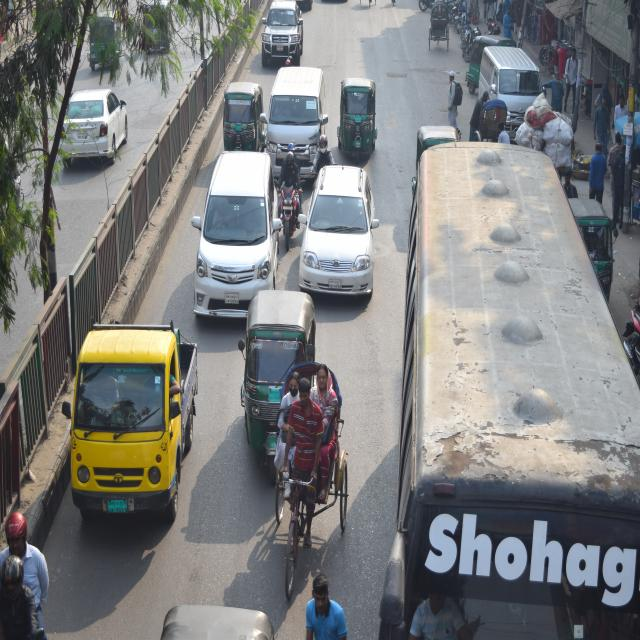bus: (408, 149, 640, 639)
car: (197, 145, 280, 322), (302, 150, 371, 302), (58, 93, 135, 162), (262, 1, 300, 72)
microbus: (272, 52, 322, 159)
motorbike: (282, 142, 306, 244)
pickup-van: (66, 314, 192, 515)
